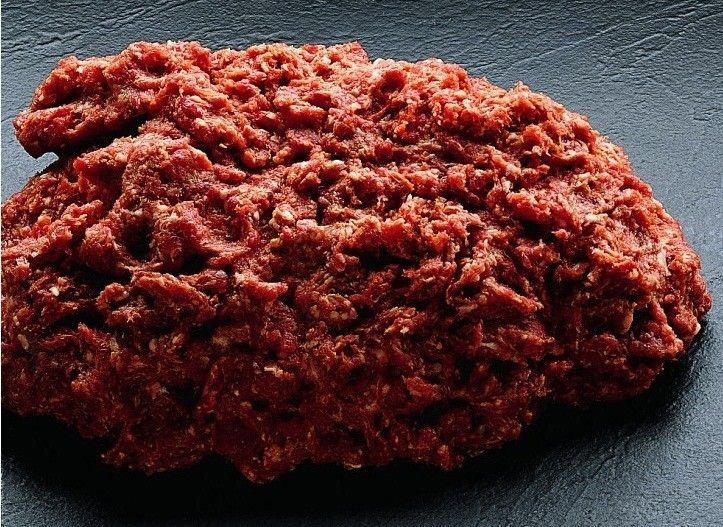ground_beef: (20, 41, 651, 484)
